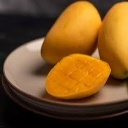mango: (42, 3, 101, 68)
